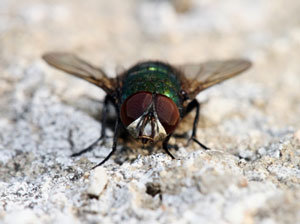green bottles fly: (39, 38, 257, 162)
